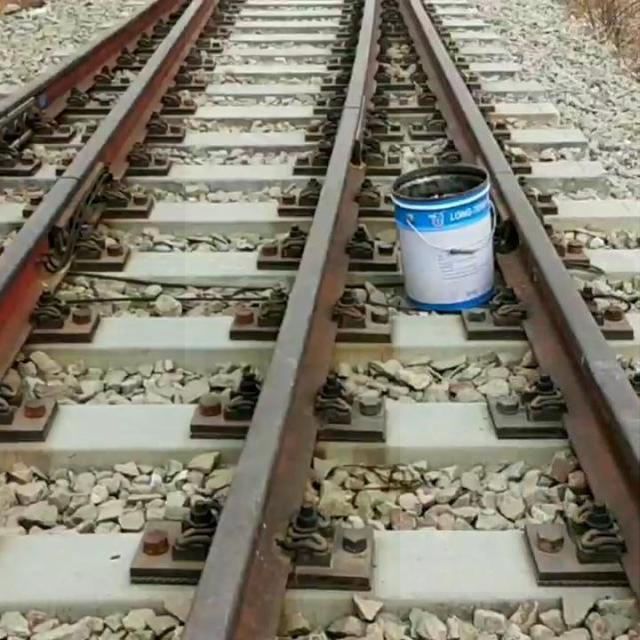rail: (402, 1, 640, 593), (187, 1, 378, 640), (2, 1, 216, 376), (2, 2, 185, 119)
